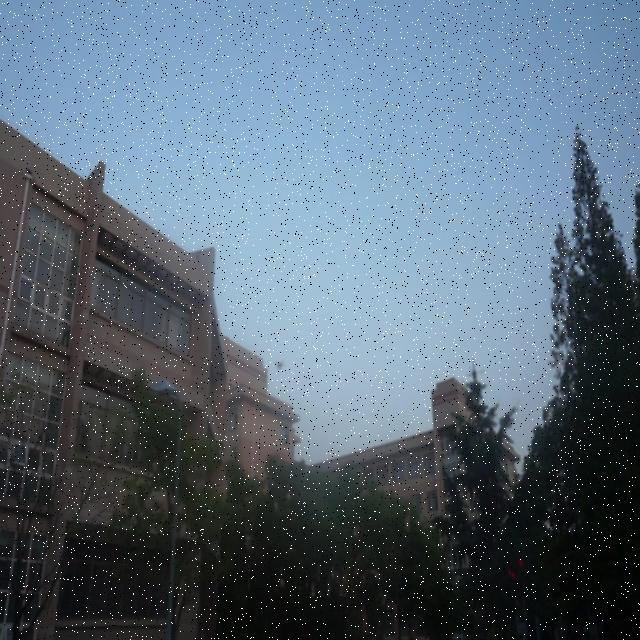UAV: (274, 360, 286, 371)
